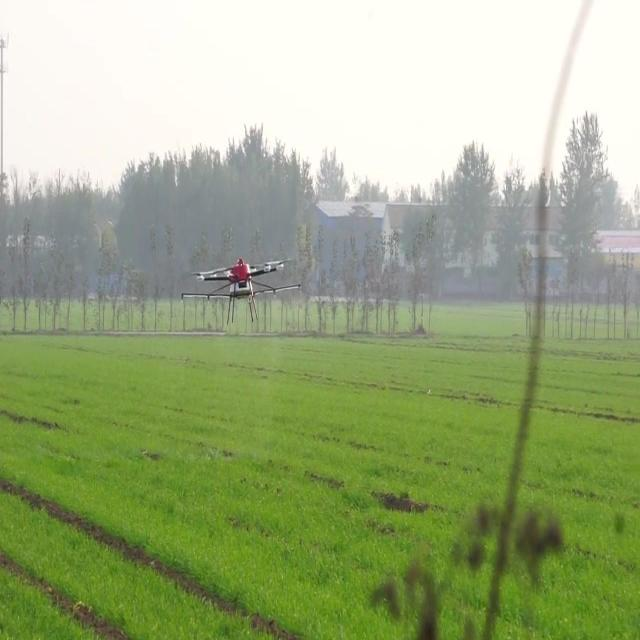drone: (181, 255, 305, 322)
